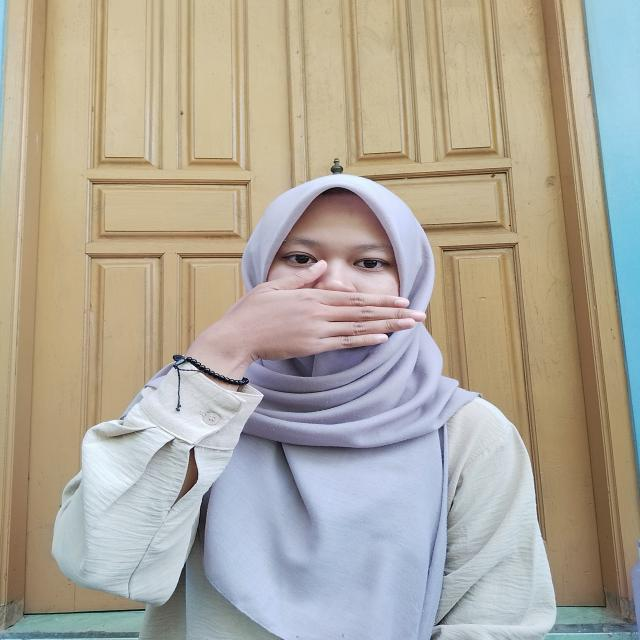buruk: (218, 237, 458, 378)
